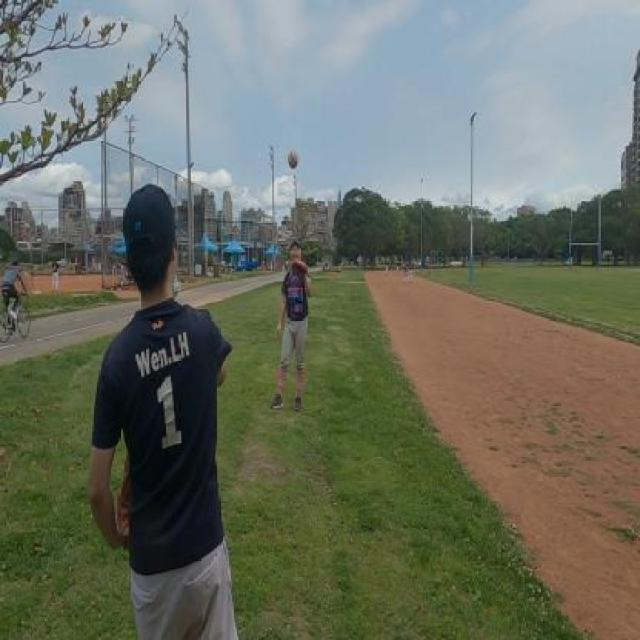baseball: (288, 150, 300, 168)
